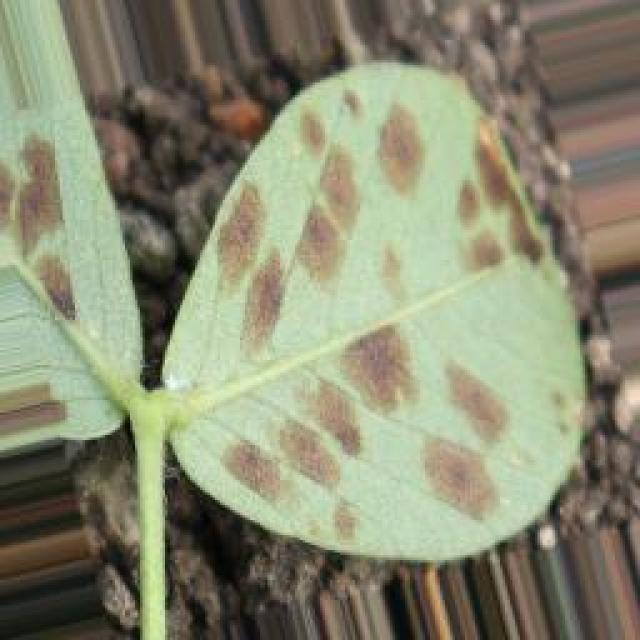Whitefly: (0, 25, 552, 562)
